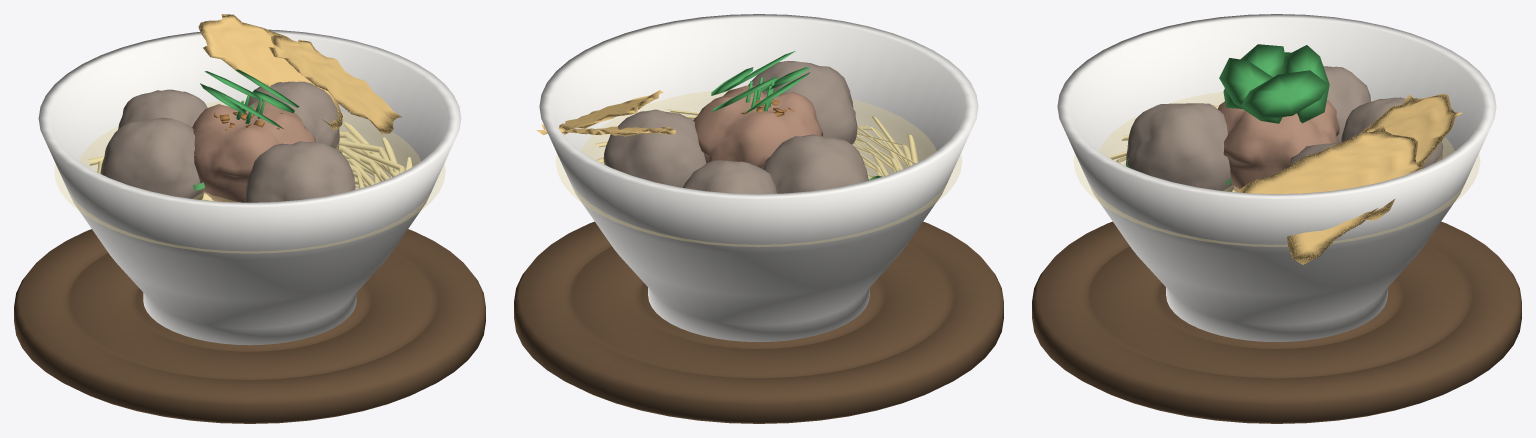
File: basoku_bowl_hero.glb
3 renders of one model, left to right at view 1: azimuth 30°, elevation 25°; view 2: azimuth 150°, elevation 25°; view 3: azimuth 270°, elevation 25°, orthographic. The views are drawn at different scales.
Parts seen in each view (by area): view 1: Bowl_Ceramic, Trivet_Wood, Meatball_4, Soup_Broth, Meatball_0, Meatball_3, Pangsit_Goreng_0, Pangsit_Goreng_1, Noodle_Bed, Meatball_1, Meatball_2, Seledri_Garnish; view 2: Bowl_Ceramic, Trivet_Wood, Soup_Broth, Meatball_4, Meatball_1, Meatball_0, Meatball_3, Meatball_2, Noodle_Bed, Seledri_Garnish, Pangsit_Goreng_1, Pangsit_Goreng_0; view 3: Bowl_Ceramic, Trivet_Wood, Pangsit_Goreng_1, Meatball_3, Seledri_Garnish, Meatball_4, Pangsit_Goreng_0, Soup_Broth, Meatball_0, Meatball_2.
Boxes of the visible parts, <box> form: Bowl_Ceramic: <box>38,29,461,345</box>; Trivet_Wood: <box>14,229,485,423</box>; Meatball_4: <box>192,100,315,202</box>; Soup_Broth: <box>54,101,445,253</box>; Meatball_0: <box>100,117,204,199</box>; Meatball_3: <box>245,141,355,202</box>; Pangsit_Goreng_0: <box>198,14,347,130</box>; Pangsit_Goreng_1: <box>268,35,401,134</box>; Noodle_Bed: <box>88,122,412,201</box>; Meatball_1: <box>247,81,339,150</box>; Meatball_2: <box>118,89,207,129</box>; Seledri_Garnish: <box>200,69,299,128</box>; Bowl_Ceramic: <box>539,14,978,341</box>; Trivet_Wood: <box>514,221,1003,423</box>; Soup_Broth: <box>556,89,961,246</box>; Meatball_4: <box>693,85,823,168</box>; Meatball_1: <box>603,109,706,187</box>; Meatball_0: <box>763,134,868,193</box>; Meatball_3: <box>748,61,857,144</box>; Meatball_2: <box>683,160,776,194</box>; Noodle_Bed: <box>595,109,928,179</box>; Seledri_Garnish: <box>711,51,809,113</box>; Pangsit_Goreng_1: <box>541,90,663,132</box>; Pangsit_Goreng_0: <box>536,126,675,136</box>; Bowl_Ceramic: <box>1057,14,1496,341</box>; Trivet_Wood: <box>1032,221,1521,423</box>; Pangsit_Goreng_1: <box>1236,124,1421,264</box>; Meatball_3: <box>1126,103,1233,191</box>; Seledri_Garnish: <box>1219,44,1329,123</box>; Meatball_4: <box>1218,100,1339,191</box>; Pangsit_Goreng_0: <box>1361,93,1462,220</box>; Soup_Broth: <box>1074,92,1479,246</box>; Meatball_0: <box>1323,66,1370,142</box>; Meatball_2: <box>1341,97,1443,168</box>.
Size of the model in its own units: 0.212 by 0.126 by 0.212.
